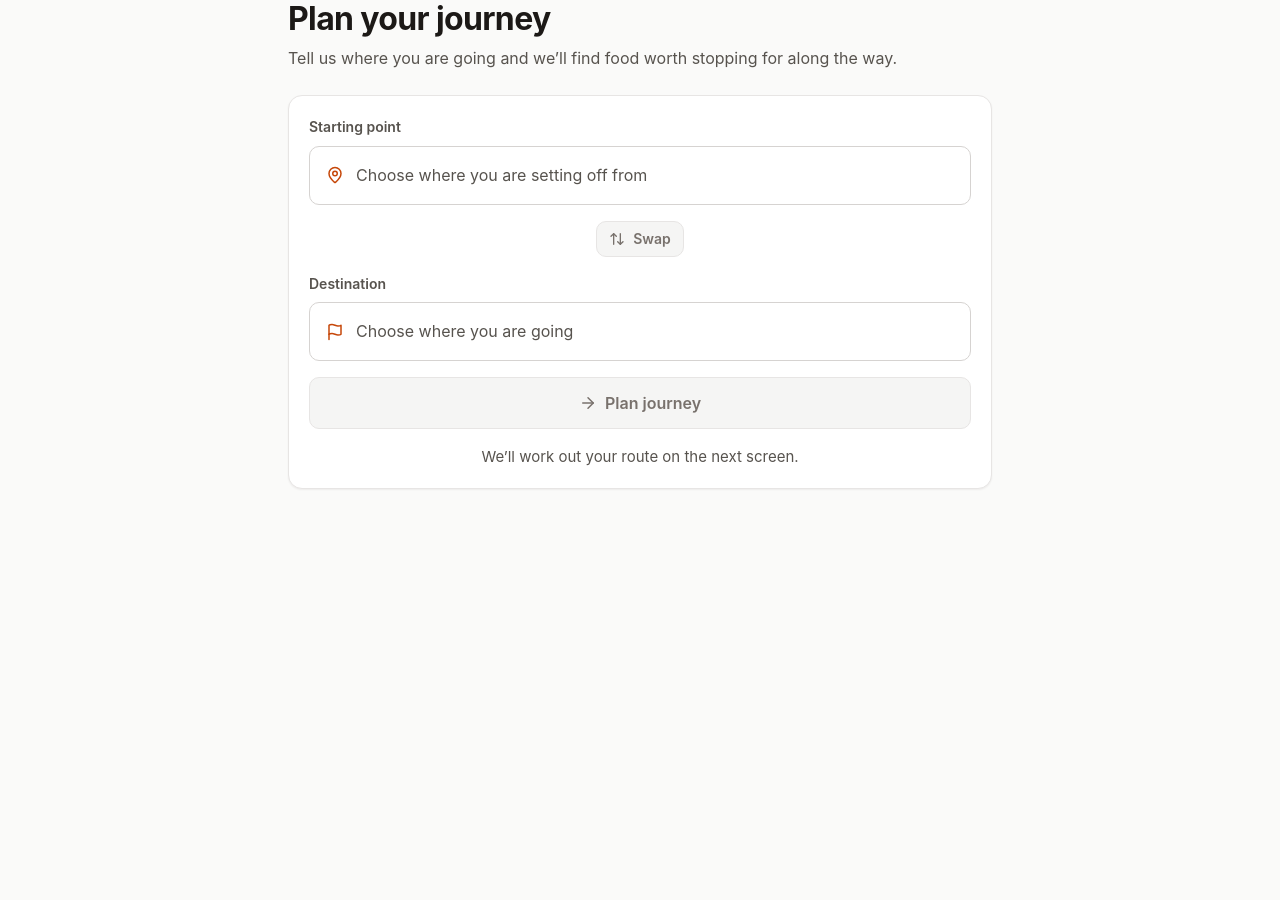
Test: TripPlannerScreen › refuses the same place at both ends, and says which rule it broke
Click the button with aria-label "Starting point" at [640, 175], box [309,146,971,205]
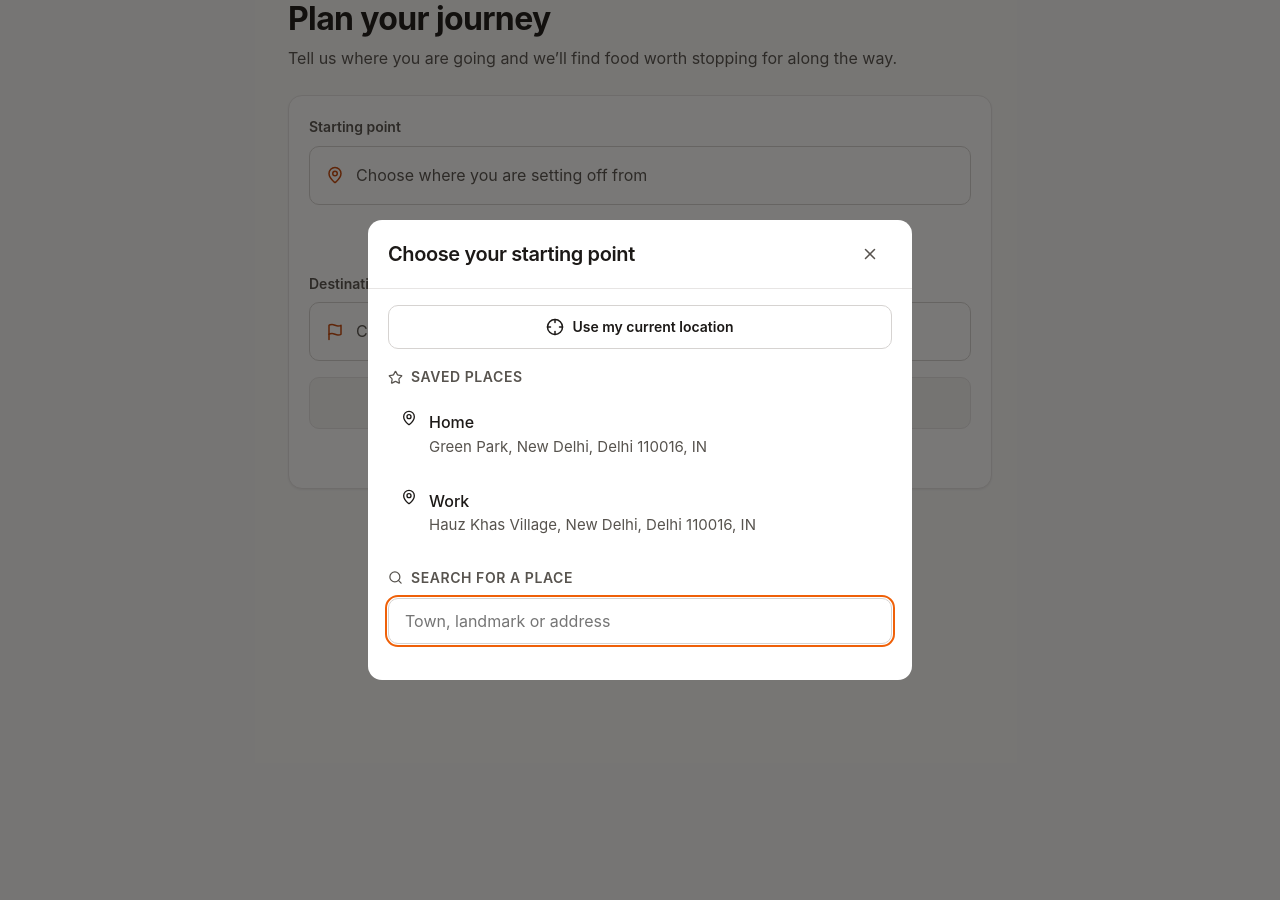
Click the button "Home Green Park, New Delhi, Delhi 110016, IN" at [640, 434], box [388,398,892,472]
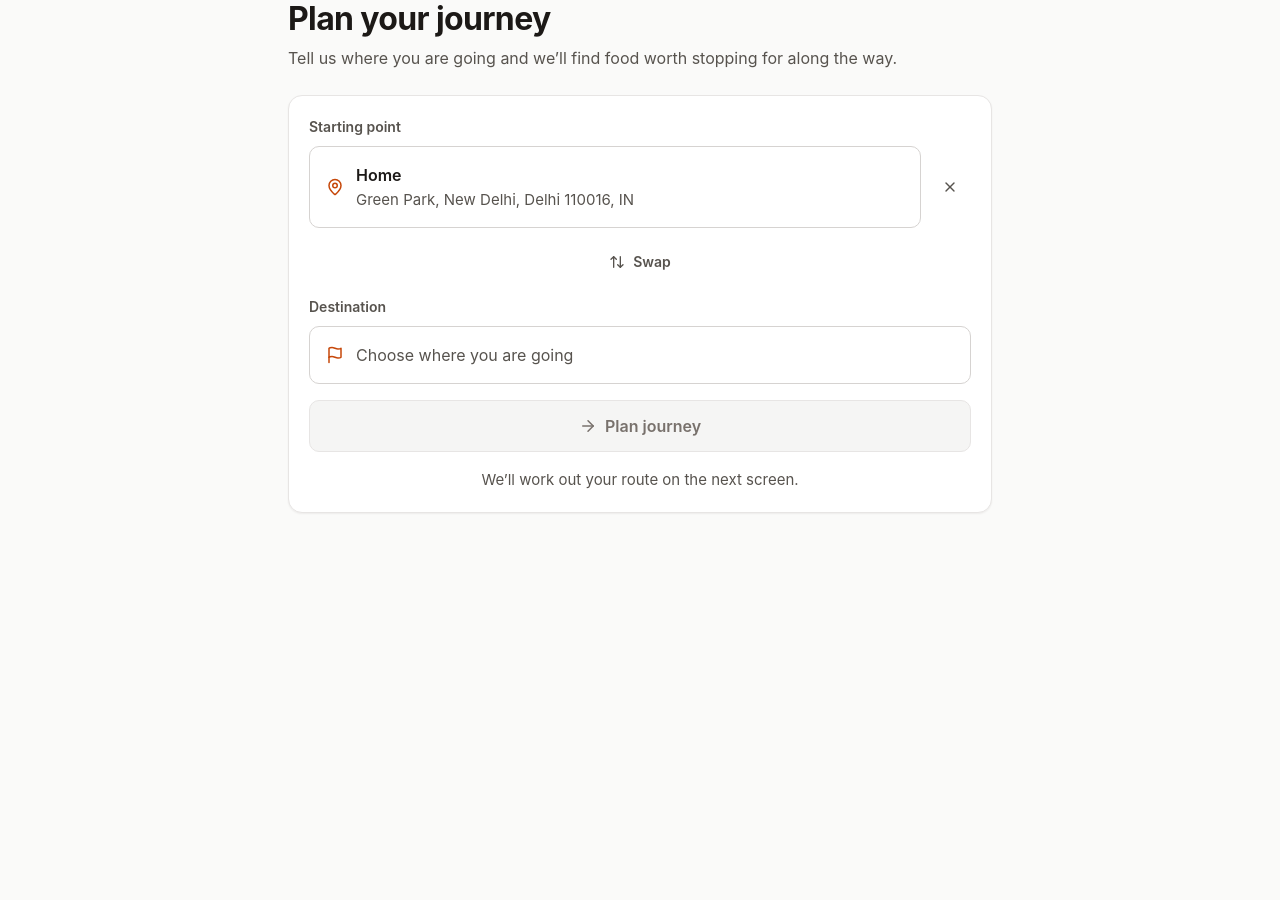
Click the button with aria-label "Destination" at [465, 355], box [309,326,971,384]
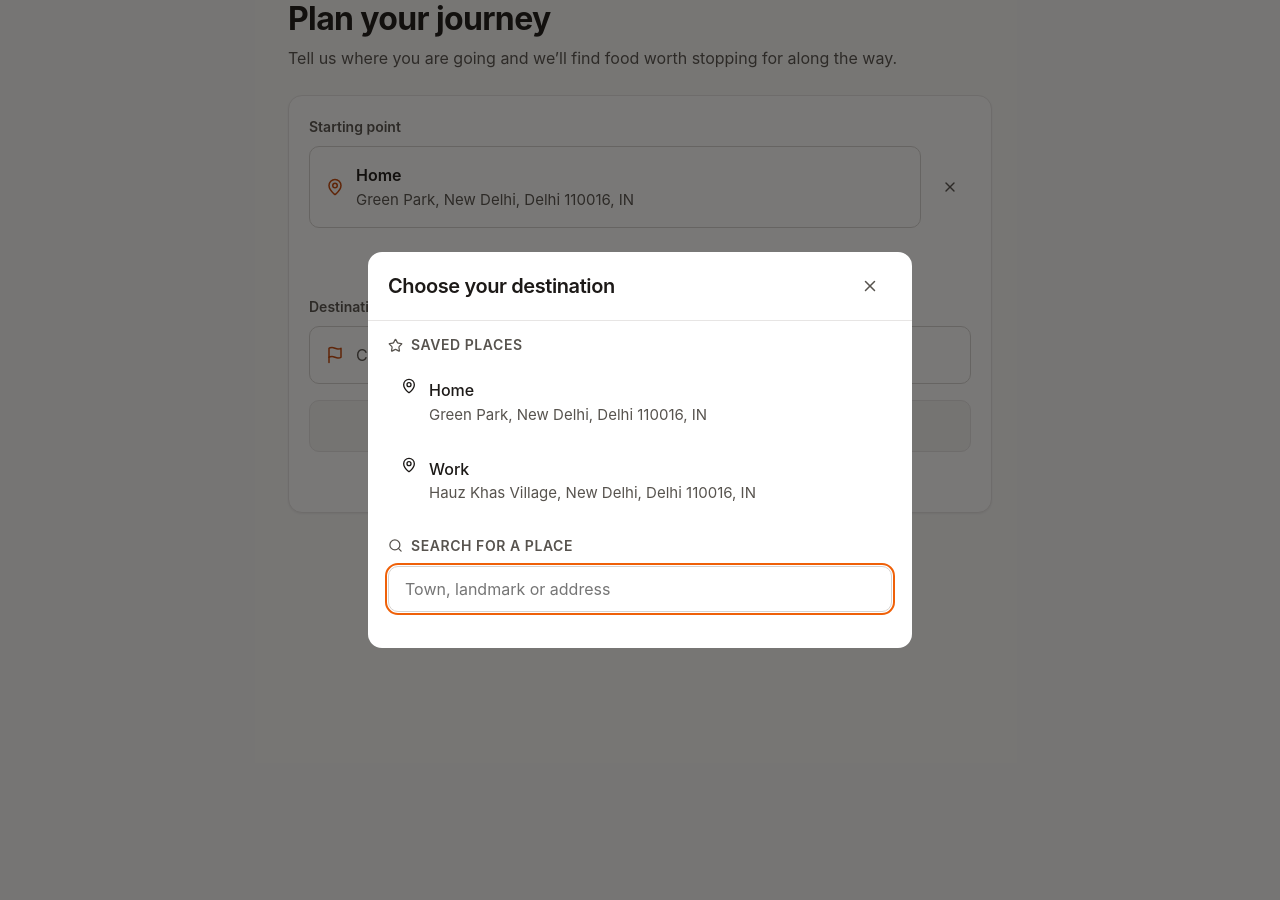
Click the button "Home Green Park, New Delhi, Delhi 110016, IN" at [640, 402], box [388,366,892,440]
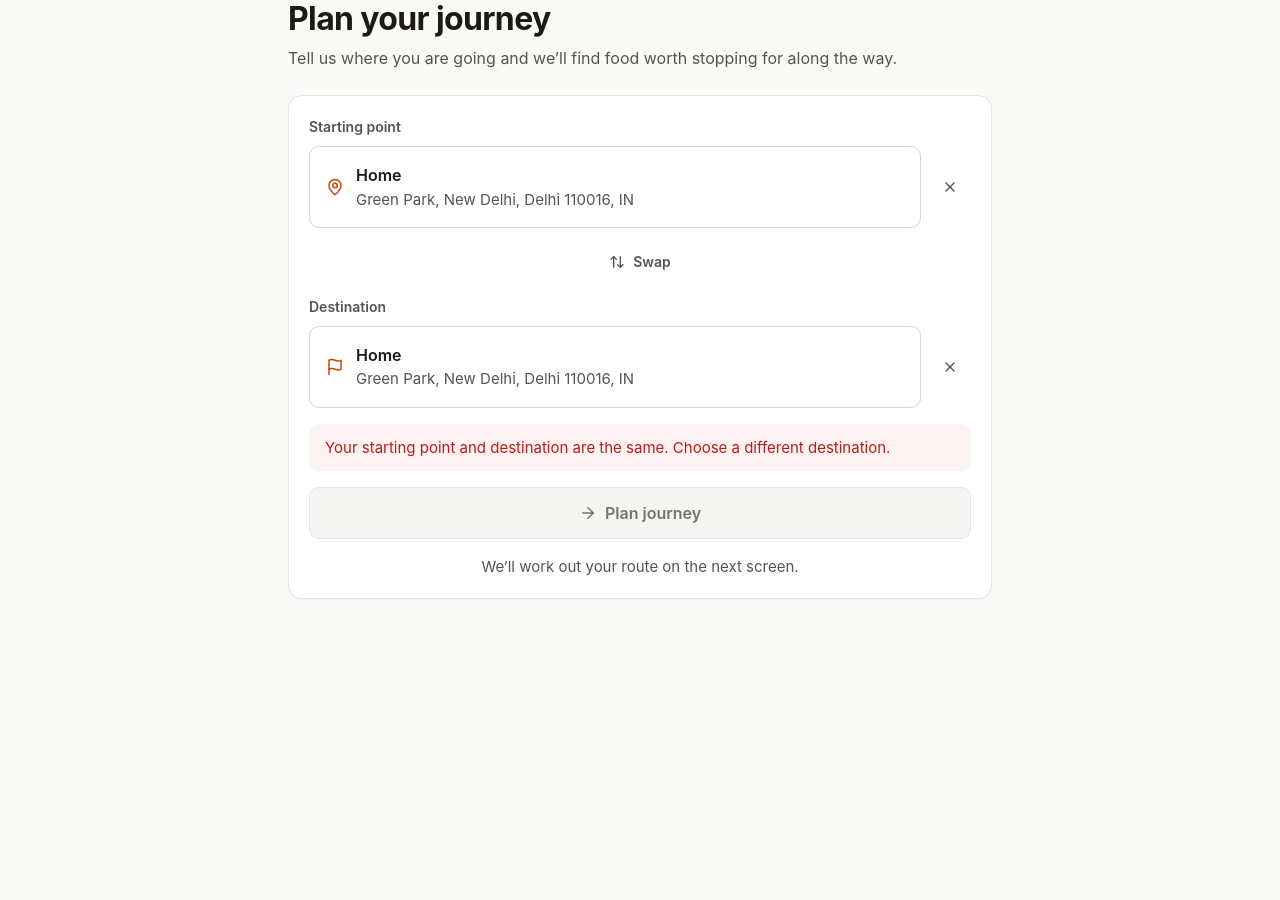
Expected: the button "Plan journey" is disabled, [309,487,971,539]
Now the message shows "starting point and destination are the same", box [325,438,890,457]
